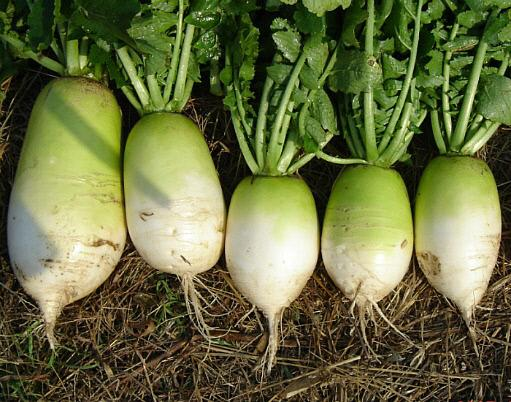radish: (8, 50, 100, 215), (92, 67, 185, 178), (180, 104, 256, 215), (328, 96, 402, 201), (259, 101, 331, 198)
